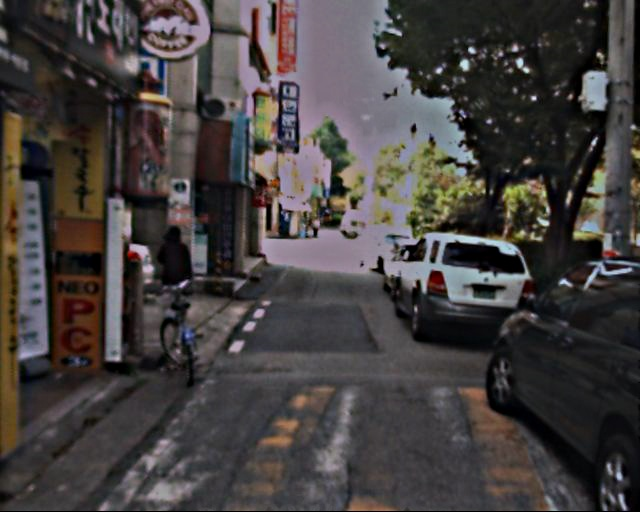person: (156, 219, 204, 325)
